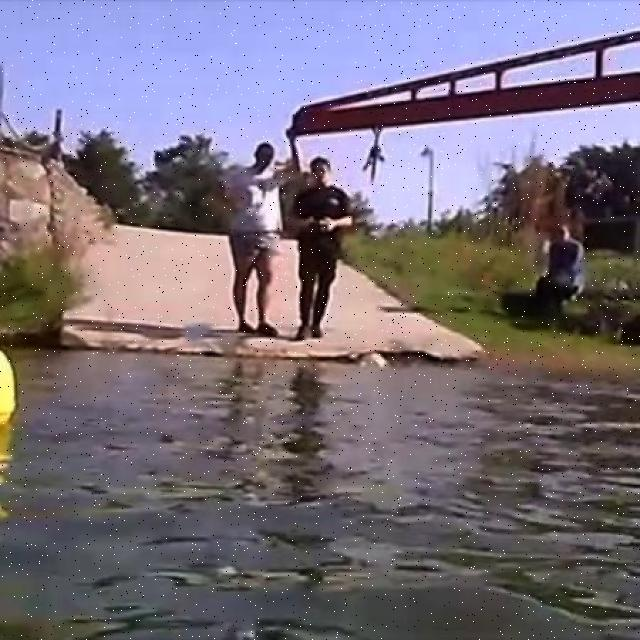buoy: (0, 347, 17, 427)
